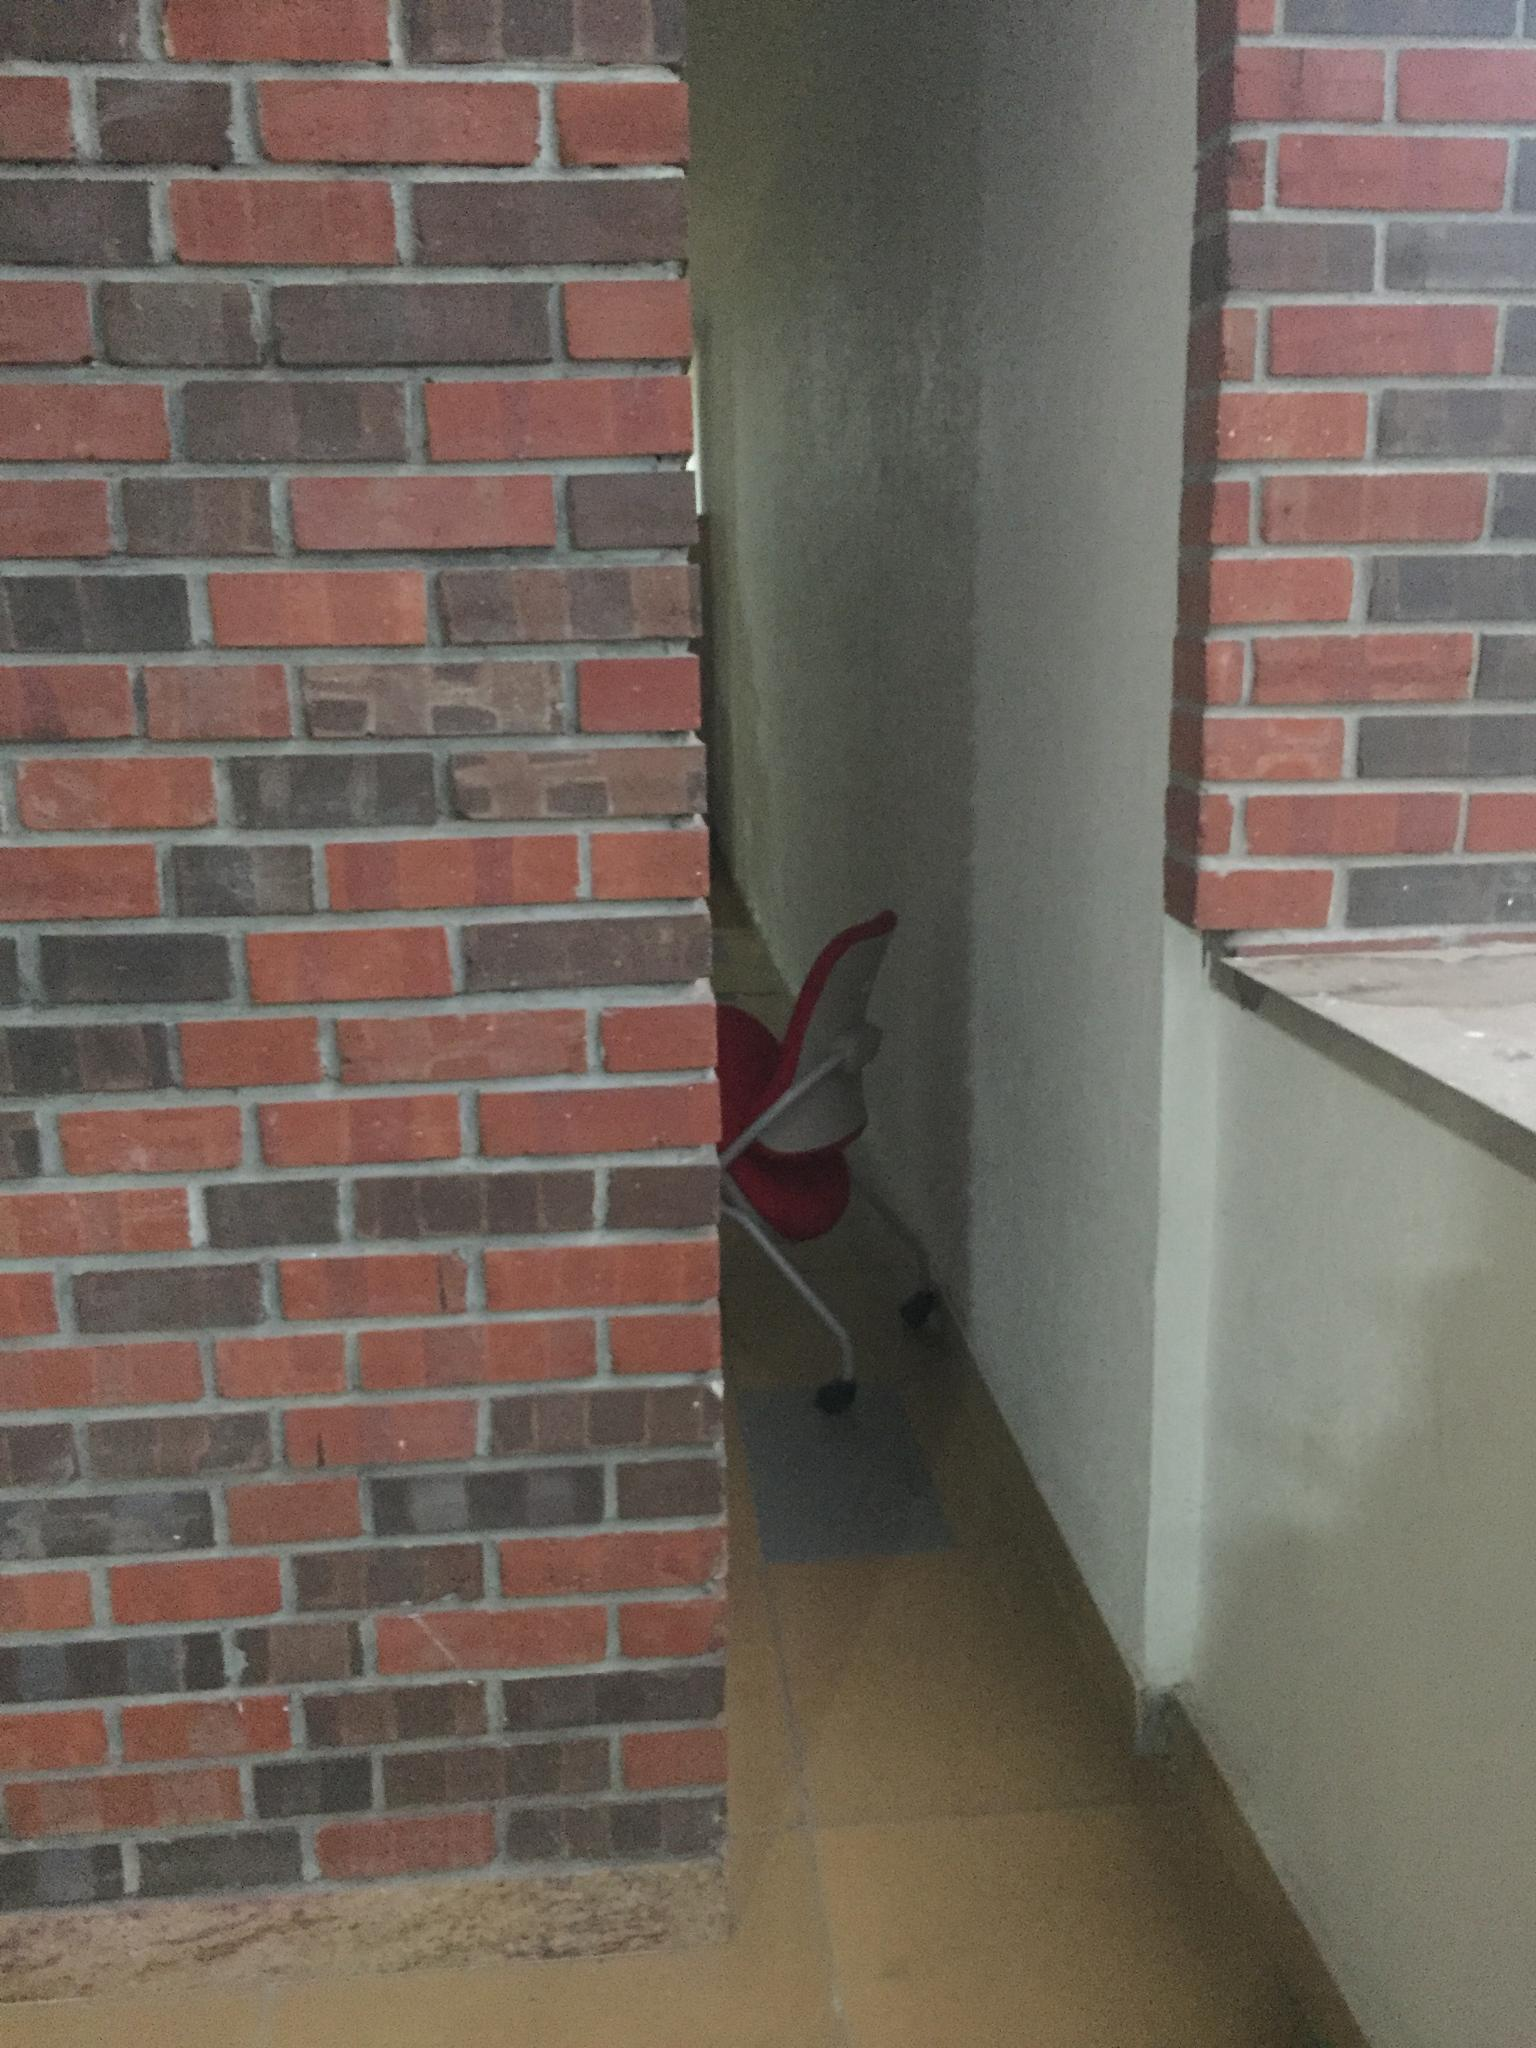chair: (715, 906, 936, 1414)
